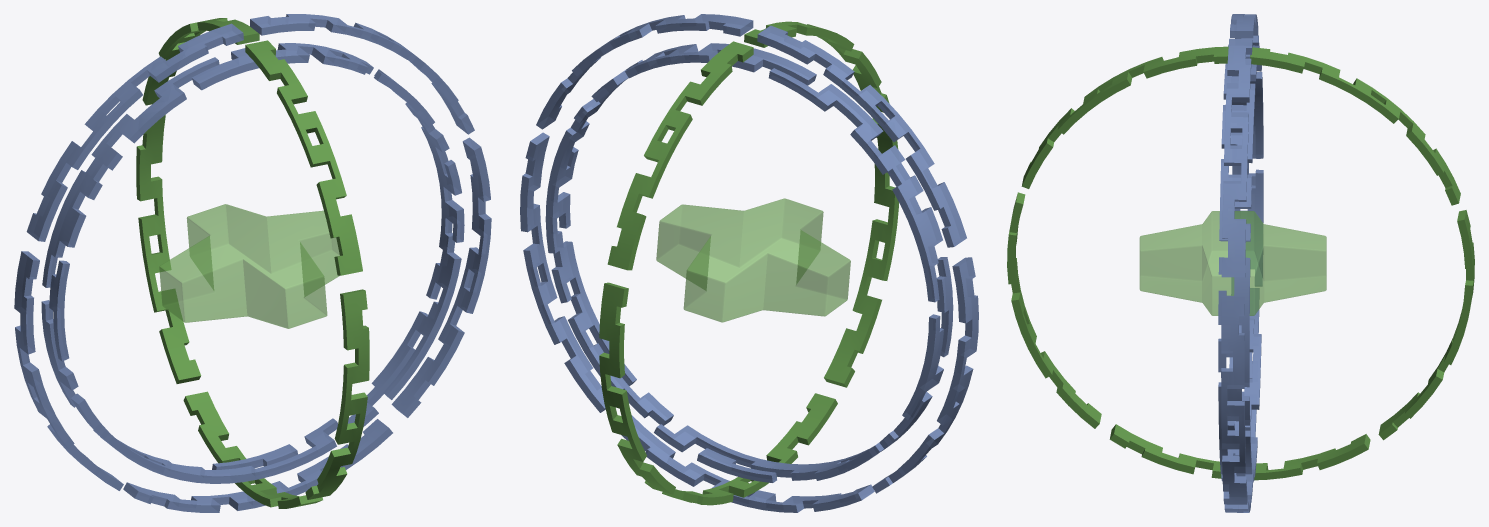
Rendered from Heal.fbx.
3 renders of one model, left to right at view 1: azimuth 30°, elevation 25°; view 2: azimuth 150°, elevation 25°; view 3: azimuth 270°, elevation 25°, orthographic. The views are drawn at different scales.
Parts seen in each view (by area): view 1: Health.001; view 2: Health.001; view 3: Health.001.
Part boxes in pixels (x1,y1,x2,y2): Health.001: [14, 14, 491, 512]; Health.001: [520, 14, 978, 512]; Health.001: [1007, 14, 1474, 512].
Bounding box in the file's own units: 801 × 800 × 750.
